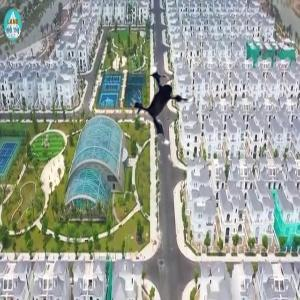drone: (121, 57, 216, 152)
